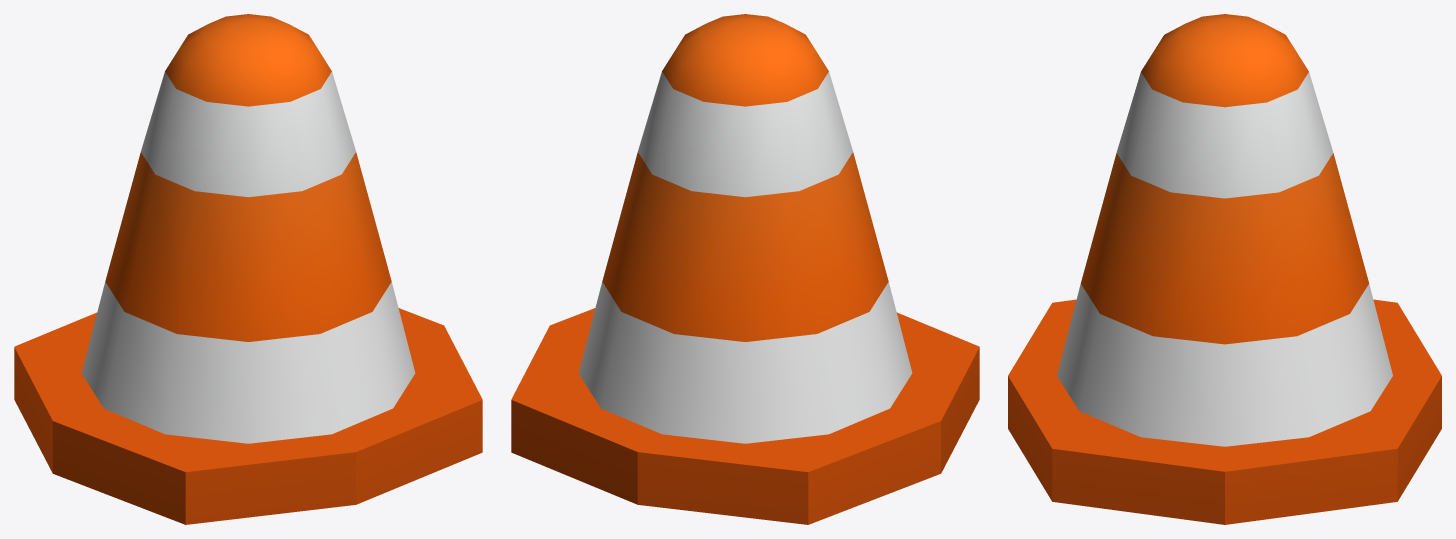
File: Collectable_Traffic_Cone_01.fbx
3 views of the same model, side by side, from view 1: azimuth 30°, elevation 25°; view 2: azimuth 150°, elevation 25°; view 3: azimuth 270°, elevation 25° (orthographic).
Visible parts, largest first — view 1: Collectable_Traffic_Cone_01; view 2: Collectable_Traffic_Cone_01; view 3: Collectable_Traffic_Cone_01.
Part boxes in pixels (x1,y1,x2,y2): Collectable_Traffic_Cone_01: (14, 14, 482, 524); Collectable_Traffic_Cone_01: (511, 14, 979, 524); Collectable_Traffic_Cone_01: (1008, 14, 1441, 524).
Bounding box in the file's own units: 61.92 × 60.26 × 59.05.
1 material, 1 textured.
